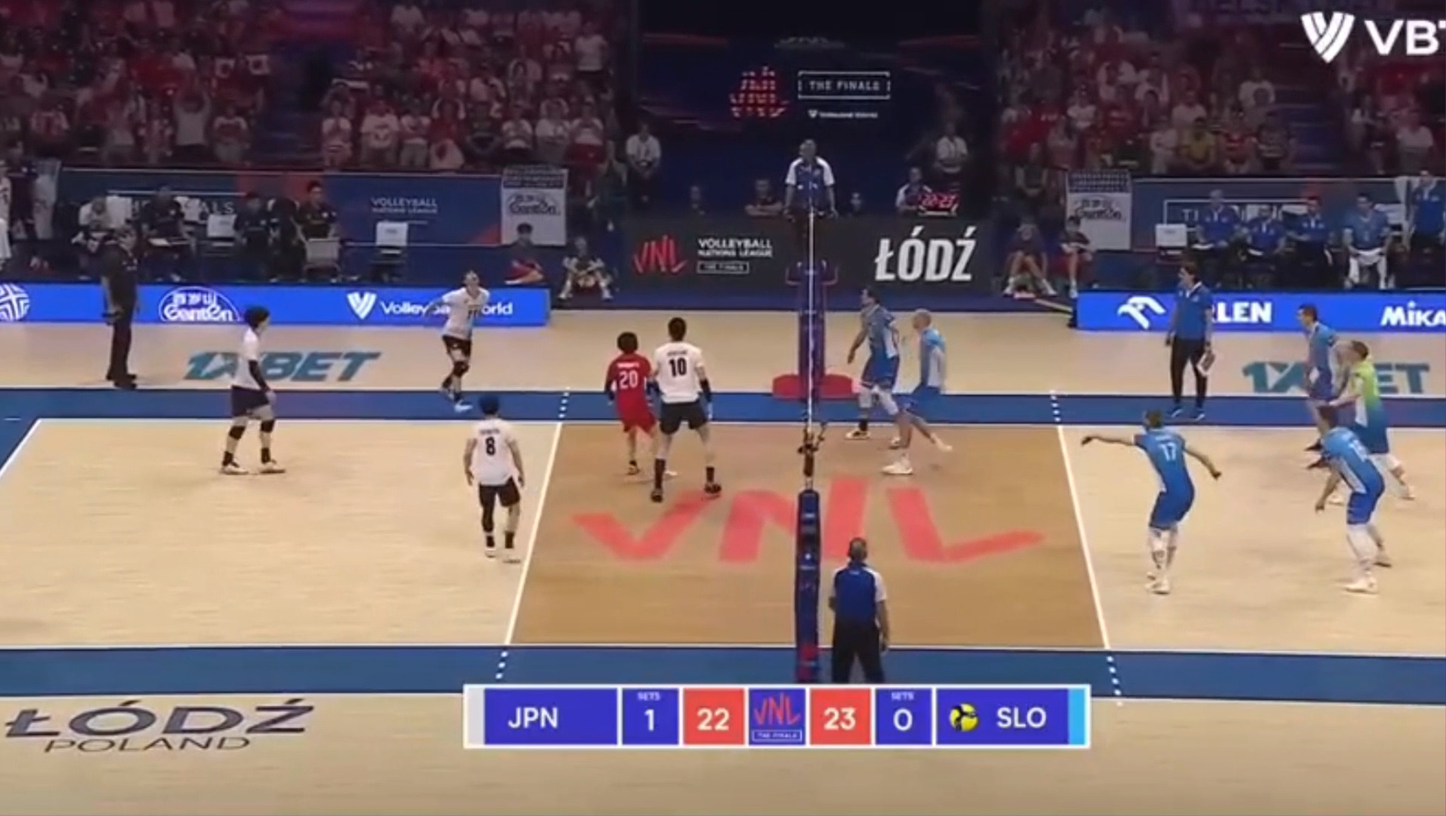player: (1080, 411, 1220, 595), (1315, 400, 1386, 593), (1328, 340, 1414, 499), (882, 310, 951, 475), (845, 289, 899, 439), (1299, 304, 1336, 406)
player 1: (650, 317, 721, 502), (221, 306, 284, 473), (465, 397, 524, 561), (428, 271, 490, 412), (604, 332, 657, 474)
referee: (828, 537, 889, 684), (783, 139, 838, 285), (1165, 264, 1213, 418), (99, 230, 138, 389)
